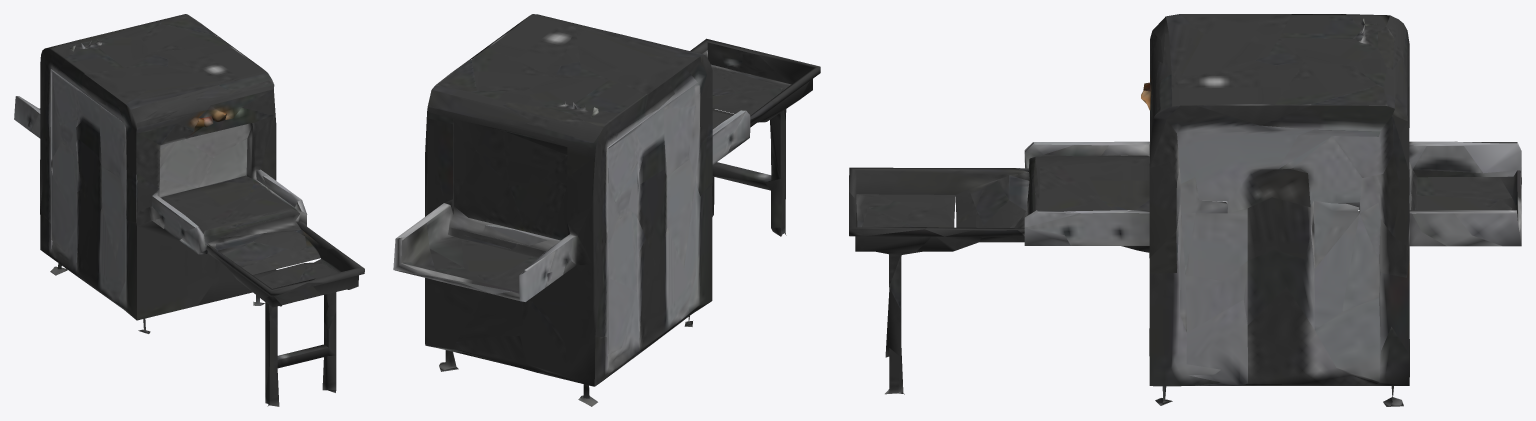
The model's file is xray_lod2.glb.
3 views of the same model, side by side, from view 1: azimuth 30°, elevation 25°; view 2: azimuth 150°, elevation 25°; view 3: azimuth 270°, elevation 25° (orthographic). The views are drawn at different scales.
Visible parts, largest first — view 1: tripo_node_baab9e08; view 2: tripo_node_baab9e08; view 3: tripo_node_baab9e08.
Boxes of the visible parts, x1=… form: tripo_node_baab9e08: x1=14, y1=14, x2=364, y2=406; tripo_node_baab9e08: x1=393, y1=14, x2=820, y2=406; tripo_node_baab9e08: x1=849, y1=14, x2=1521, y2=406.
Bounding box in the file's own units: 32.48 × 52.79 × 99.99.
Materials: 1 (1 with a texture image).
